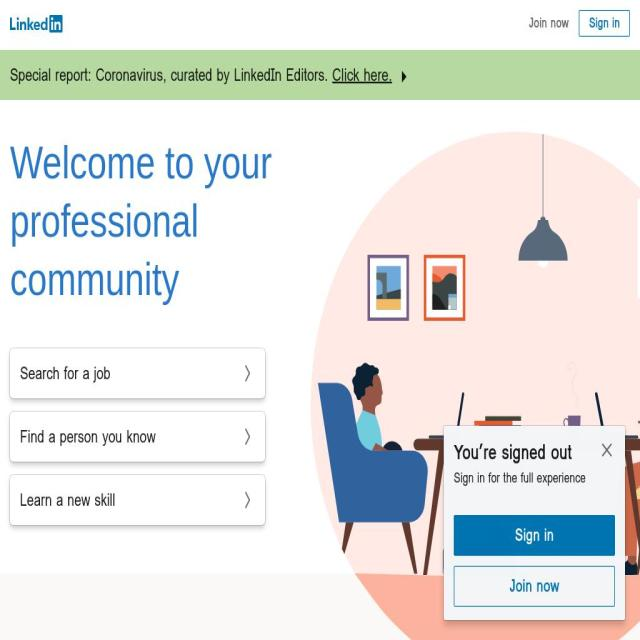button: (10, 348, 265, 398), (10, 412, 265, 462), (10, 475, 265, 525), (10, 62, 411, 88), (454, 515, 615, 556), (454, 566, 615, 606), (579, 10, 630, 37), (524, 10, 574, 37), (10, 14, 62, 33), (599, 439, 615, 461)
heading: (10, 134, 351, 308), (453, 439, 598, 465), (454, 468, 615, 488)
image: (296, 131, 640, 640), (10, 14, 62, 33), (396, 66, 411, 86), (240, 364, 255, 384), (240, 426, 255, 446), (240, 490, 255, 510), (600, 440, 614, 460)
text: (10, 62, 332, 88), (20, 425, 156, 448), (20, 488, 116, 512), (20, 362, 111, 385), (332, 62, 392, 88)
